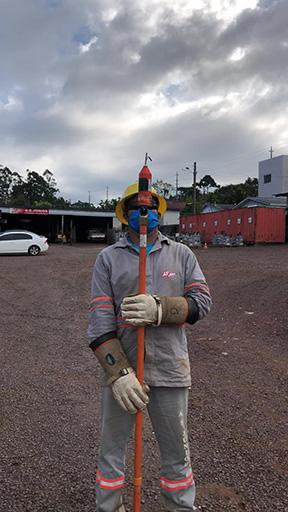Detector_Tensao_Contato: (138, 151, 153, 204)
Vara_Manobra: (133, 208, 149, 512)
